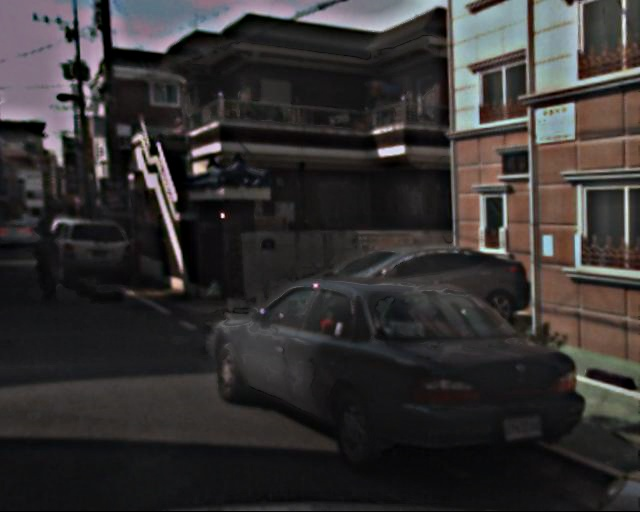person: (33, 221, 74, 301)
